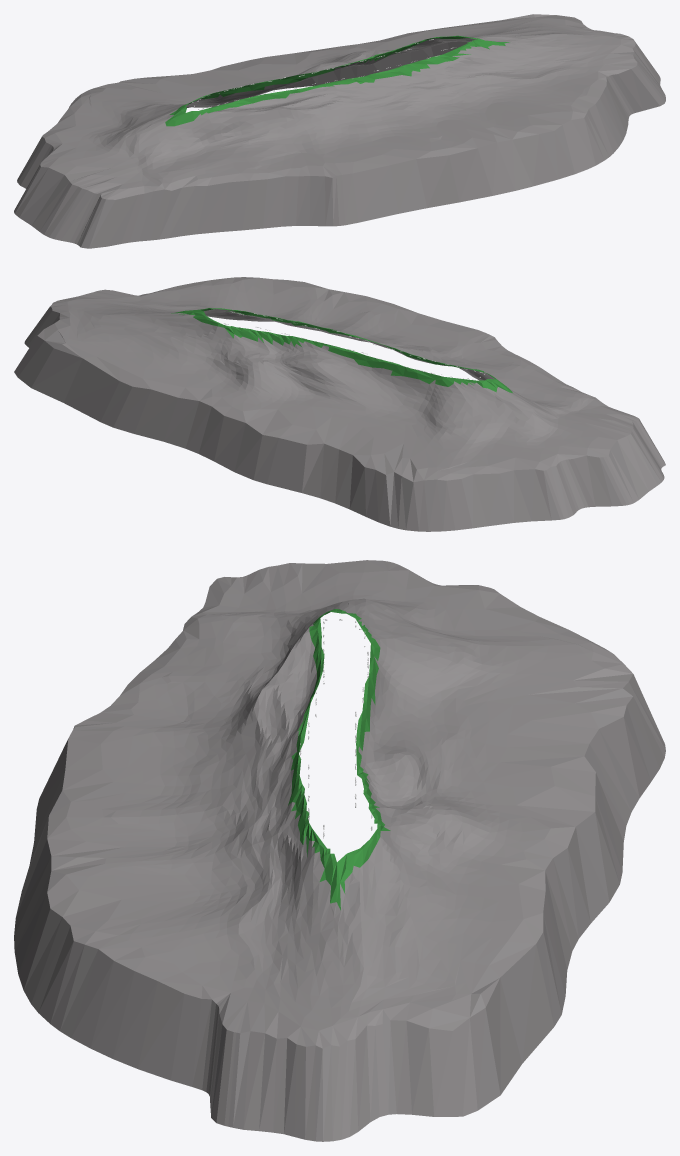
The model's file is landscape details.fbx.
The picture shows the model from 3 angles, top to bottom: view 1: azimuth 30°, elevation 25°; view 2: azimuth 150°, elevation 25°; view 3: azimuth 270°, elevation 25°; orthographic projection. The views are drawn at different scales.
Visible parts, largest first — view 1: stone, cliffs, outer_grass; view 2: stone, cliffs, outer_grass; view 3: stone, cliffs, outer_grass.
Part boxes in pixels (x1,y1,x2,y2): stone: (55, 17, 620, 189); cliffs: (14, 14, 665, 248); outer_grass: (165, 35, 509, 126); stone: (58, 279, 618, 473); cliffs: (14, 277, 665, 531); outer_grass: (171, 308, 512, 392); stone: (53, 571, 604, 1030); cliffs: (14, 560, 665, 1141); outer_grass: (288, 609, 390, 910).
Size of the model in its own units: 4408 by 549 by 2284.
